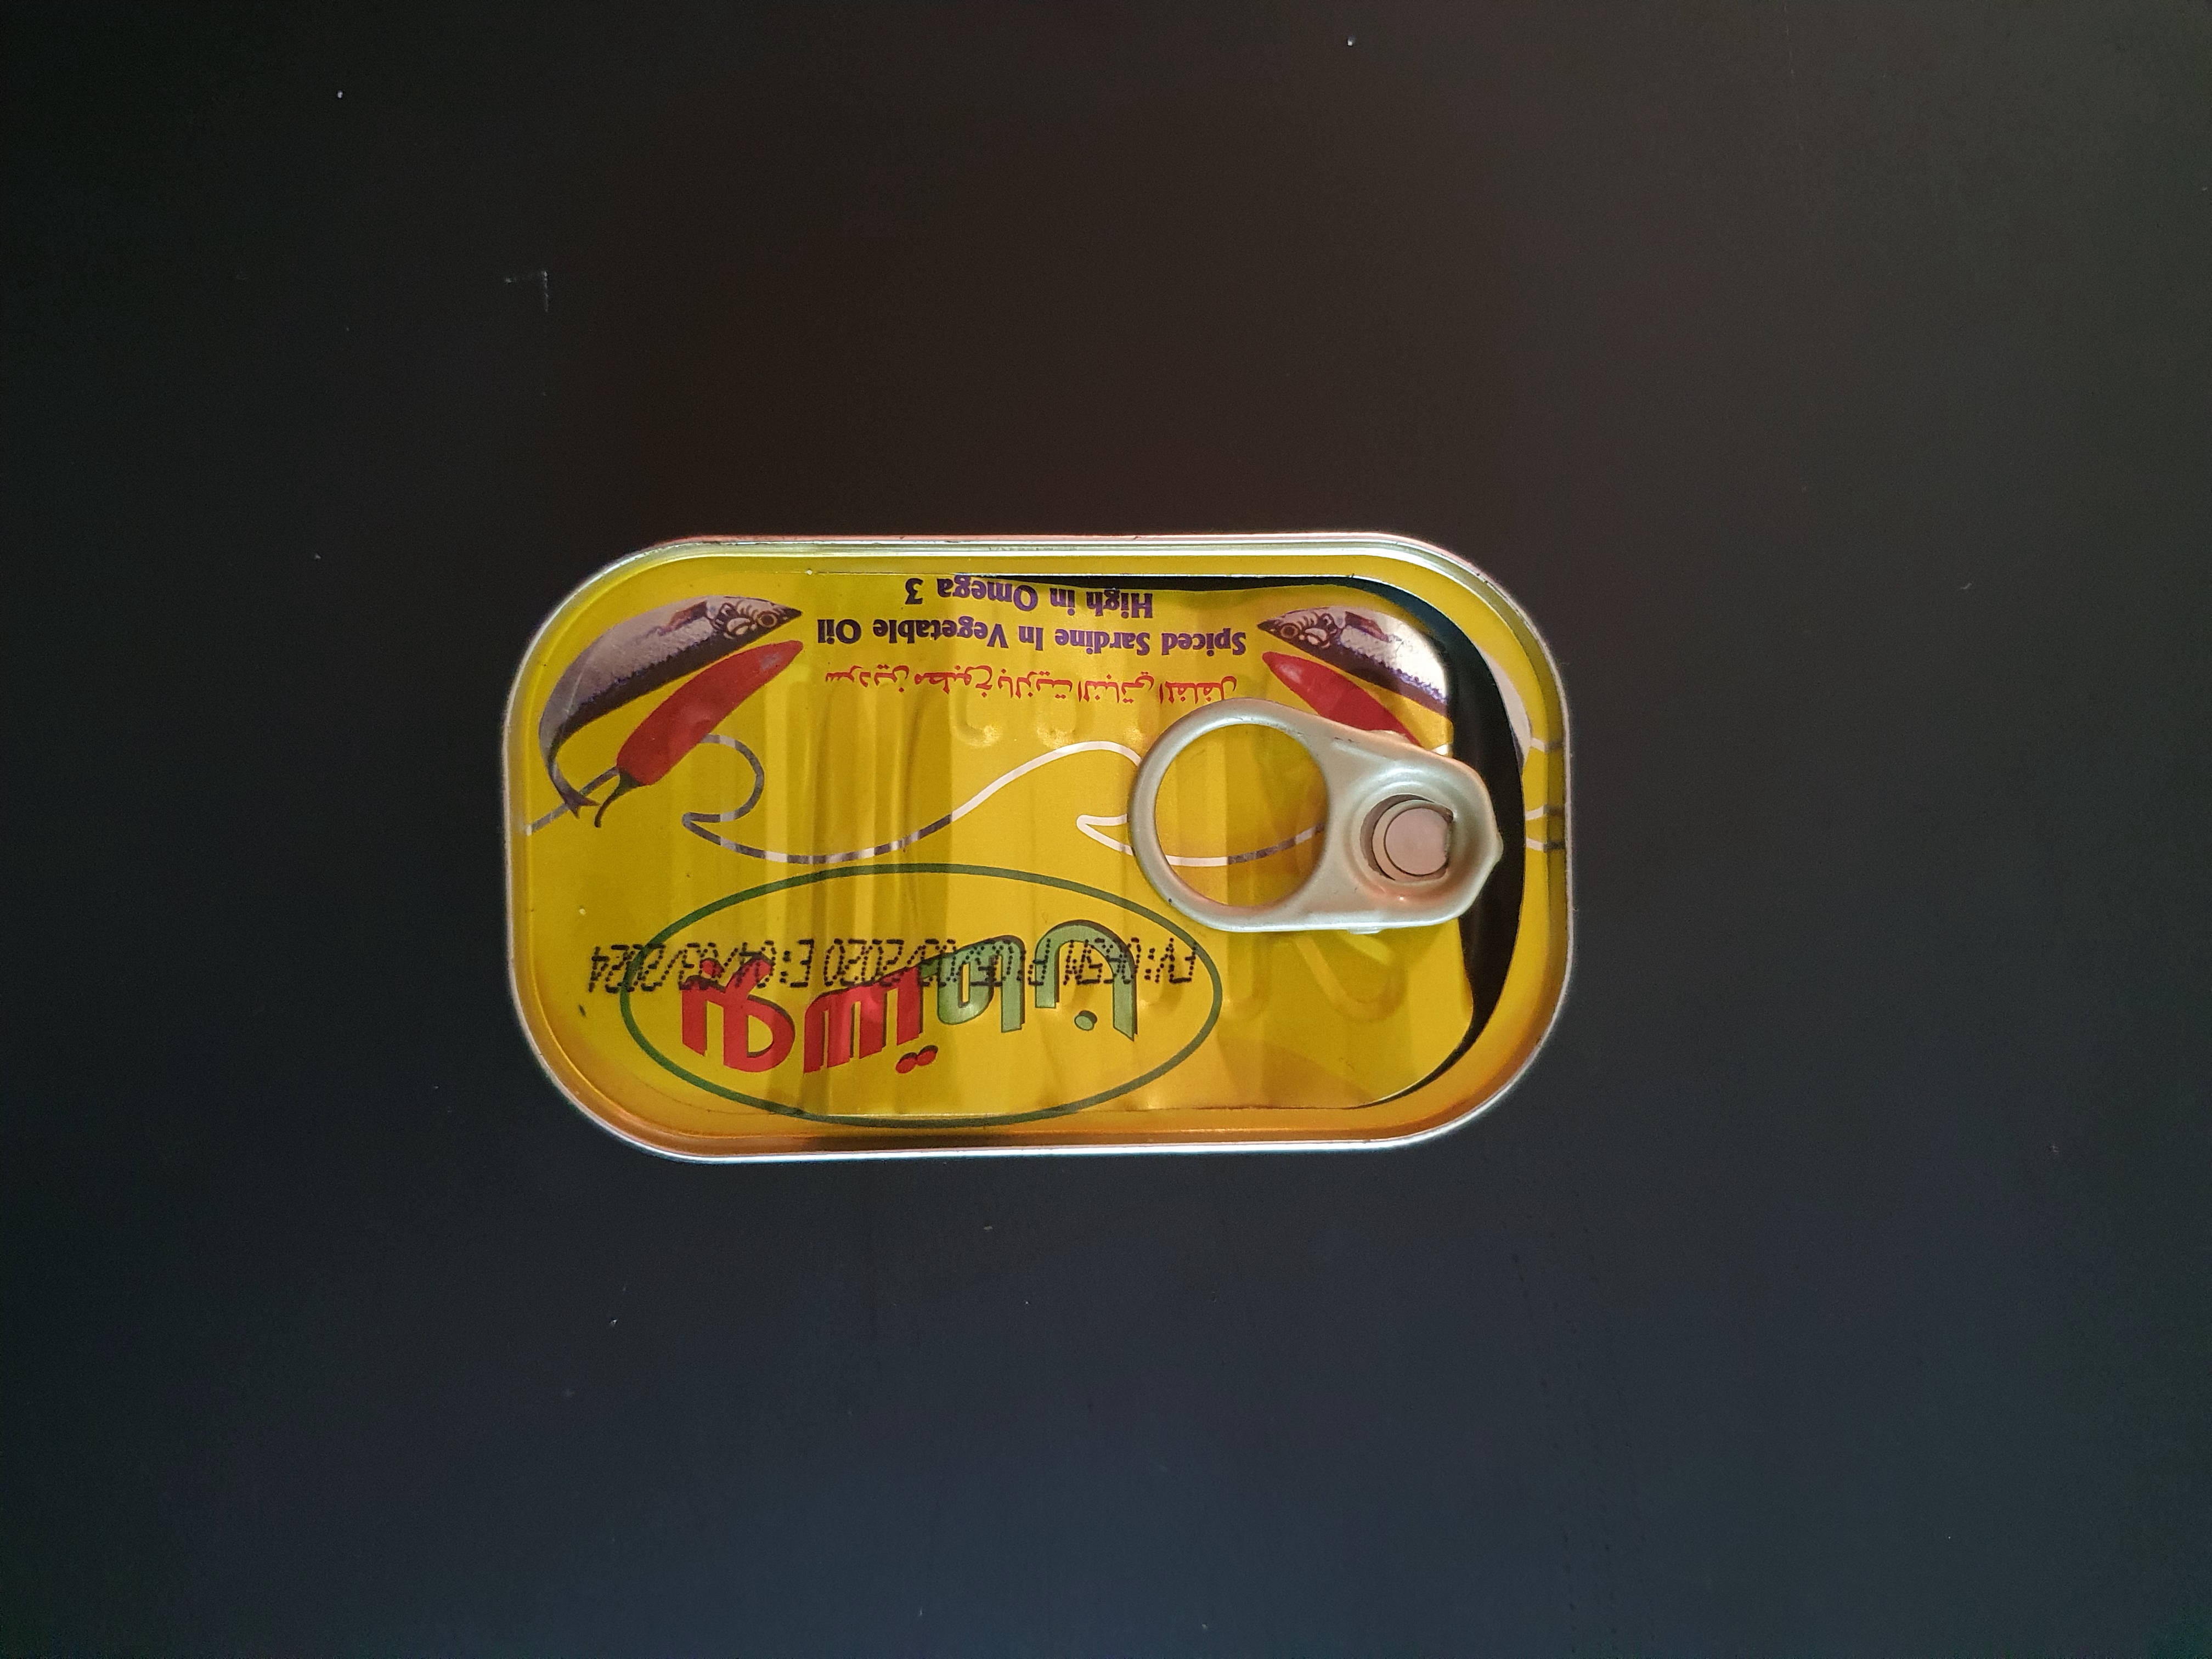metal: (397, 448, 1688, 1262)
